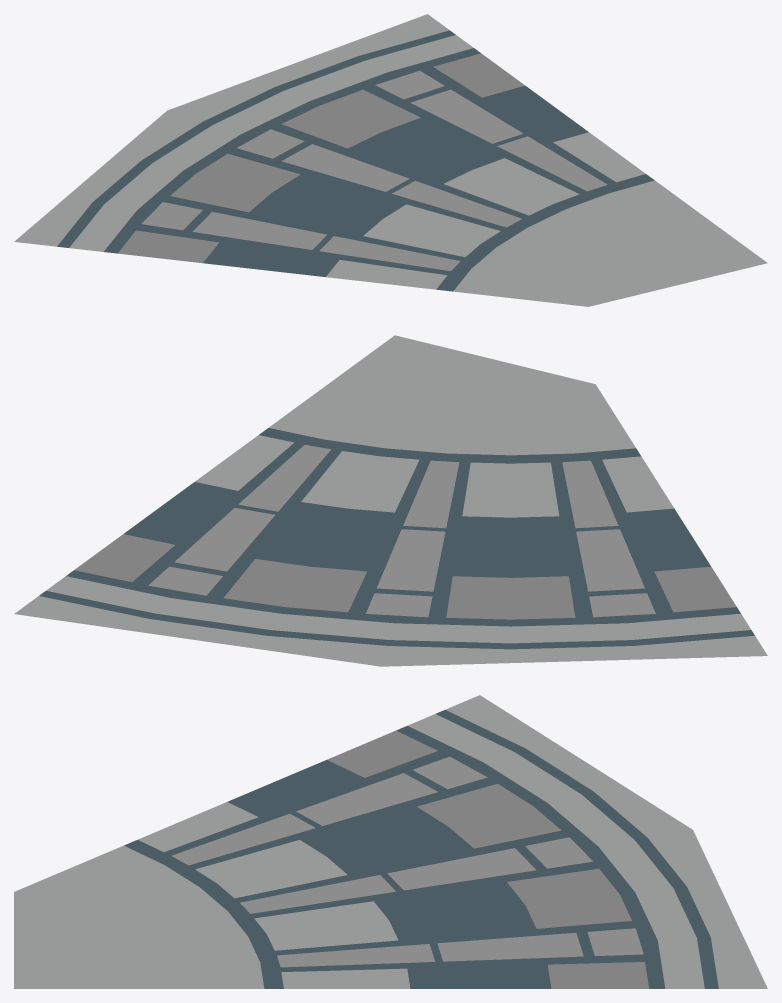
3 views of the same model, one above another, from view 1: azimuth 30°, elevation 25°; view 2: azimuth 150°, elevation 25°; view 3: azimuth 270°, elevation 25° (orthographic). The views are drawn at different scales.
Visible parts, largest first — view 1: world; view 2: world; view 3: world.
Part boxes in pixels (x1,y1,x2,y2): world: (14, 14, 767, 306); world: (14, 335, 767, 666); world: (14, 695, 767, 988).
Bounding box in the file's own units: 0.00848 × 0 × 0.0092.
